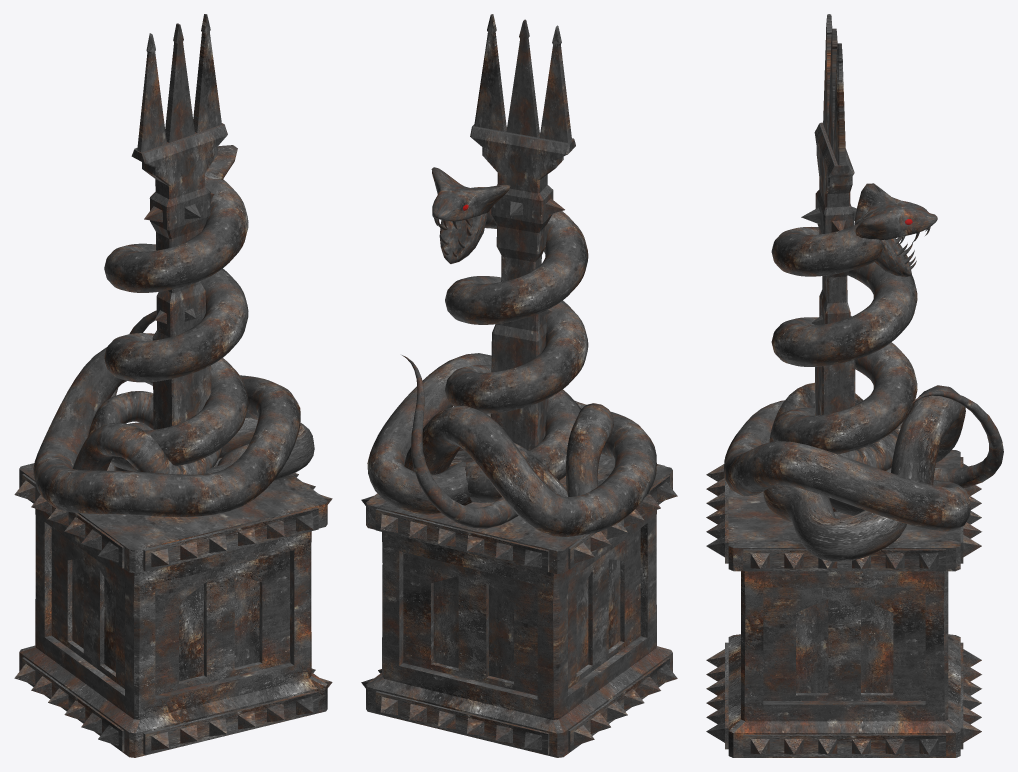
The model's file is SnakeFix.fbx.
The picture shows the model from 3 angles, left to right: view 1: azimuth 30°, elevation 25°; view 2: azimuth 150°, elevation 25°; view 3: azimuth 270°, elevation 25°; orthographic projection.
Visible parts, largest first — view 1: Base, pHelix1, nurbsToPoly3, Fork, nurbsToPoly2, Spikes4, Spikes5, Spikes, Spikes1, nurbsToPoly4, Head1; view 2: Base, nurbsToPoly3, Fork, pHelix1, Spikes6, Spikes7, nurbsToPoly2, pCone67, Spikes, Head1, Spikes1, Jaw1; view 3: Base, pHelix1, nurbsToPoly3, Fork, nurbsToPoly4, Spikes3, Spikes2, Head1, pCone67, nurbsToPoly2, Spikes4, Spikes7 (+3 smaller).
Boxes of the visible parts, bbox=[...] form: Base: bbox=[19, 458, 327, 757]; pHelix1: bbox=[104, 178, 248, 471]; nurbsToPoly3: bbox=[33, 347, 300, 517]; Fork: bbox=[131, 14, 227, 429]; nurbsToPoly2: bbox=[72, 391, 223, 474]; Spikes4: bbox=[143, 690, 318, 755]; Spikes5: bbox=[143, 507, 318, 571]; Spikes: bbox=[14, 657, 124, 751]; Spikes1: bbox=[14, 474, 124, 568]; nurbsToPoly4: bbox=[205, 418, 314, 480]; Head1: bbox=[204, 145, 237, 180]; Base: bbox=[366, 454, 672, 757]; nurbsToPoly3: bbox=[367, 353, 656, 536]; Fork: bbox=[470, 14, 575, 450]; pHelix1: bbox=[445, 187, 588, 502]; Spikes6: bbox=[375, 508, 549, 572]; Spikes7: bbox=[375, 691, 549, 754]; nurbsToPoly2: bbox=[486, 403, 613, 496]; pCone67: bbox=[402, 355, 518, 528]; Spikes: bbox=[568, 658, 677, 751]; Head1: bbox=[431, 167, 510, 221]; Spikes1: bbox=[568, 475, 677, 569]; Jaw1: bbox=[439, 212, 487, 263]; Base: bbox=[728, 450, 960, 757]; pHelix1: bbox=[771, 224, 917, 472]; nurbsToPoly3: bbox=[723, 385, 970, 531]; Fork: bbox=[801, 14, 856, 511]; nurbsToPoly4: bbox=[763, 484, 906, 561]; Spikes3: bbox=[743, 734, 945, 756]; Spikes2: bbox=[743, 549, 945, 571]; Head1: bbox=[854, 183, 937, 240]; pCone67: bbox=[909, 390, 1003, 488]; nurbsToPoly2: bbox=[769, 382, 903, 470]; Spikes4: bbox=[706, 642, 728, 749]; Spikes7: bbox=[960, 642, 981, 749].
Bounding box in the file's own units: 1.29 × 3.24 × 1.29.
